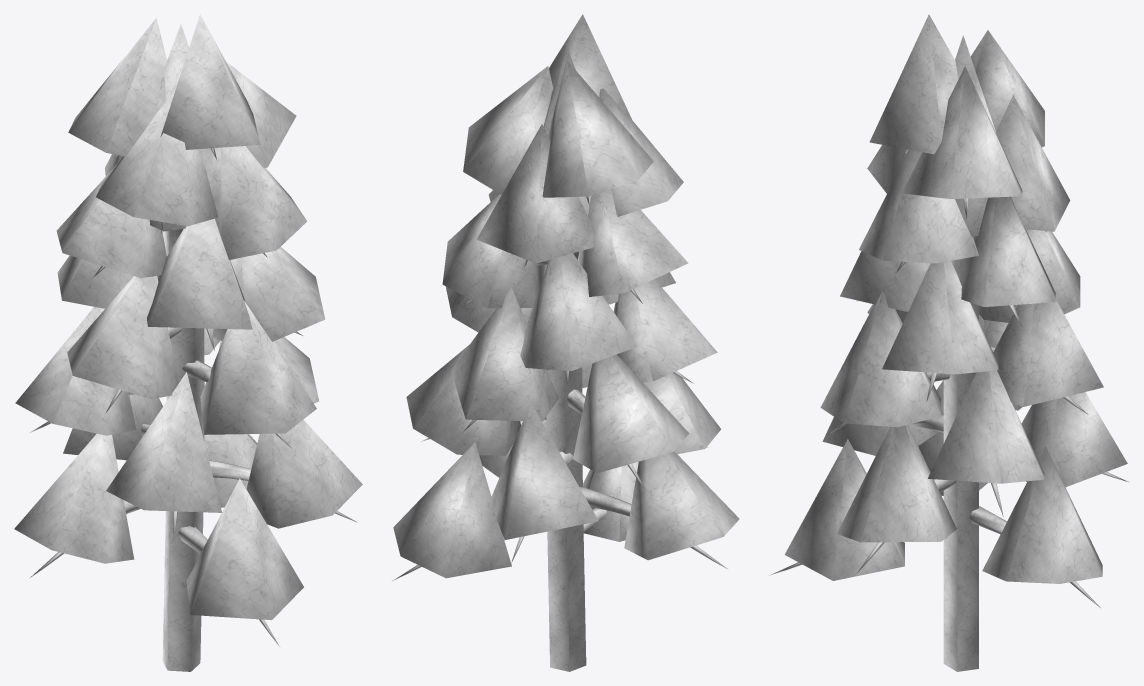
Rendered from pine.gltf.
3 renders of one model, left to right at view 1: azimuth 30°, elevation 25°; view 2: azimuth 150°, elevation 25°; view 3: azimuth 270°, elevation 25°, orthographic. The views are drawn at different scales.
Visible parts, largest first — view 1: pine; view 2: pine; view 3: pine.
Boxes of the visible parts, x1,y1,x2,y2 form: pine: (14, 14, 362, 671); pine: (392, 14, 739, 671); pine: (769, 14, 1128, 671).
Size of the model in its own units: 1.9 by 3.86 by 1.94.
Materials: 1 (1 with a texture image).
